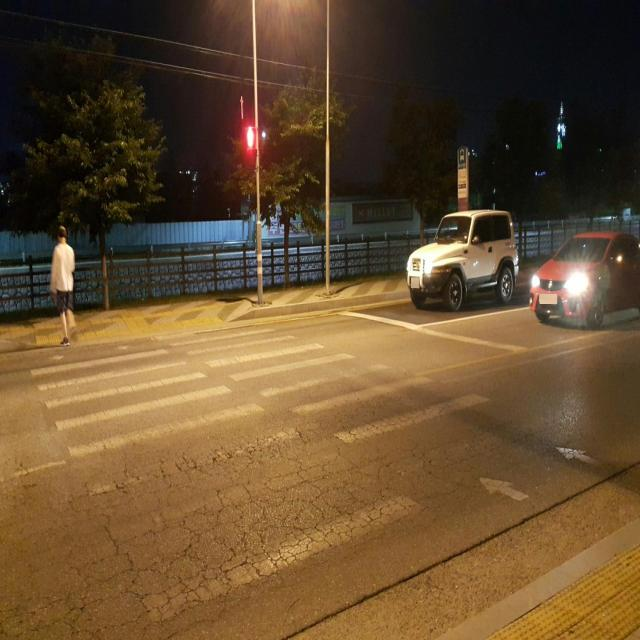빨간불: (244, 127, 260, 174)
횡단보도: (27, 323, 603, 625)
